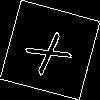X: (25, 25, 81, 77)
